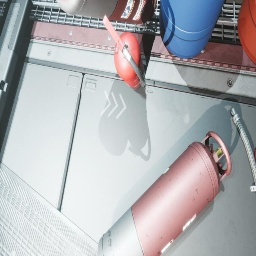FireExtinguisher ]: (103, 15, 146, 90)
NitrogenTank ,: (97, 131, 232, 256), (56, 0, 157, 25)
